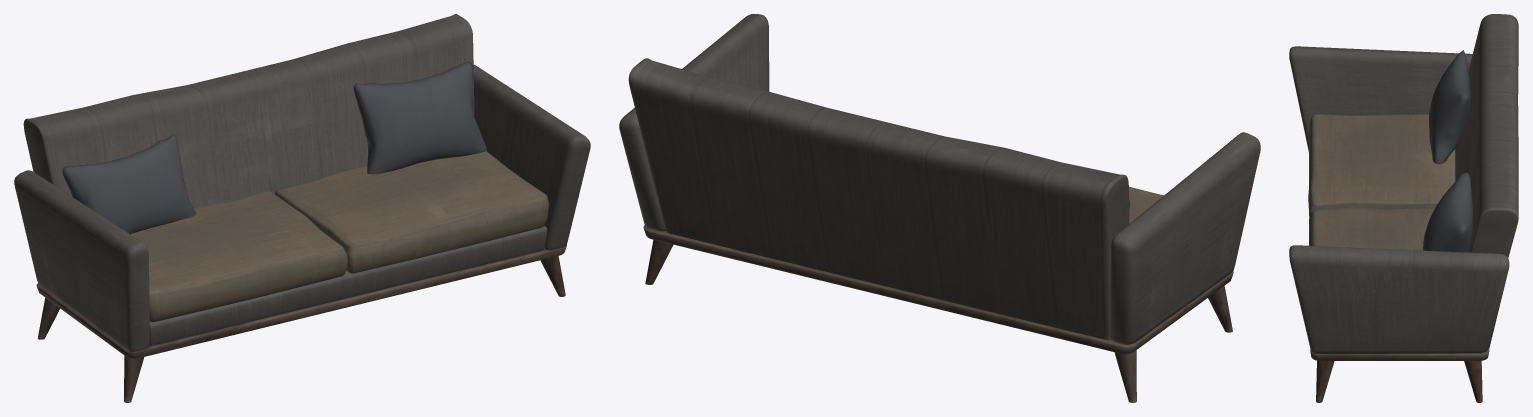
File: sofa_mid_century_seddon.glb
3 renders of one model, left to right at view 1: azimuth 30°, elevation 25°; view 2: azimuth 150°, elevation 25°; view 3: azimuth 270°, elevation 25°, orthographic. The views are drawn at different scales.
Visible parts, largest first — view 1: Object_2; view 2: Object_2; view 3: Object_2.
Boxes of the visible parts, x1,y1,x2,y2 form: Object_2: (14, 14, 590, 402); Object_2: (619, 14, 1260, 402); Object_2: (1289, 14, 1518, 402).
Size of the model in its own units: 93.67 by 40 by 43.27.
Materials: 1 (1 with a texture image).
